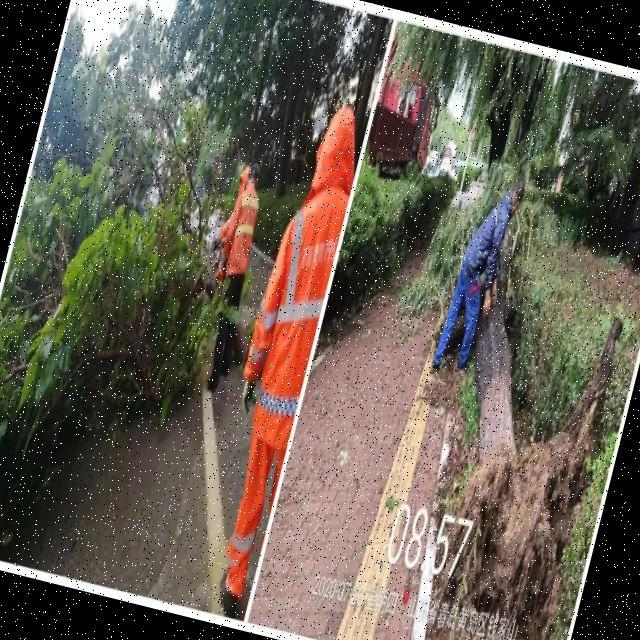fallen_object: (430, 311, 620, 624), (182, 257, 278, 371)
